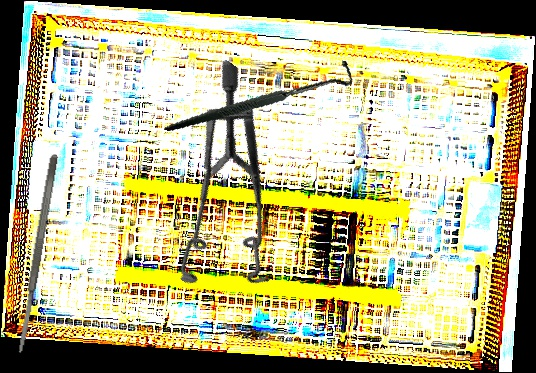Hook Surgical: (163, 27, 357, 166)
Spatula Surgical: (13, 153, 61, 356)
Speculum: (105, 57, 359, 322)
